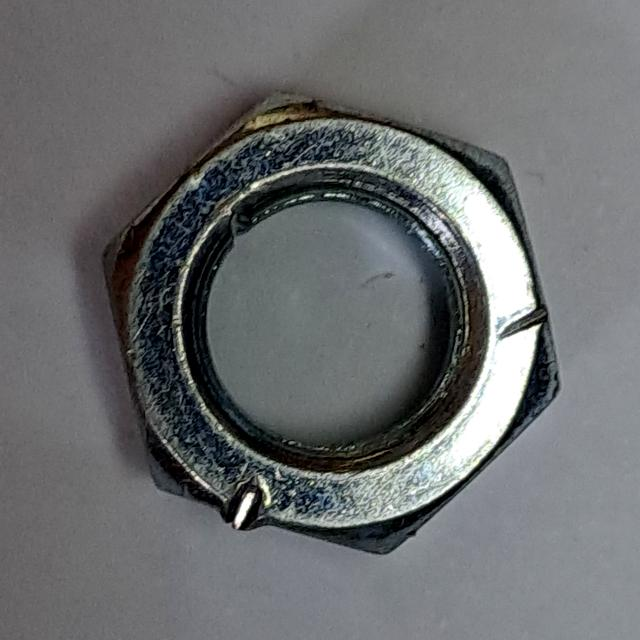Scratches: (87, 68, 572, 575)
